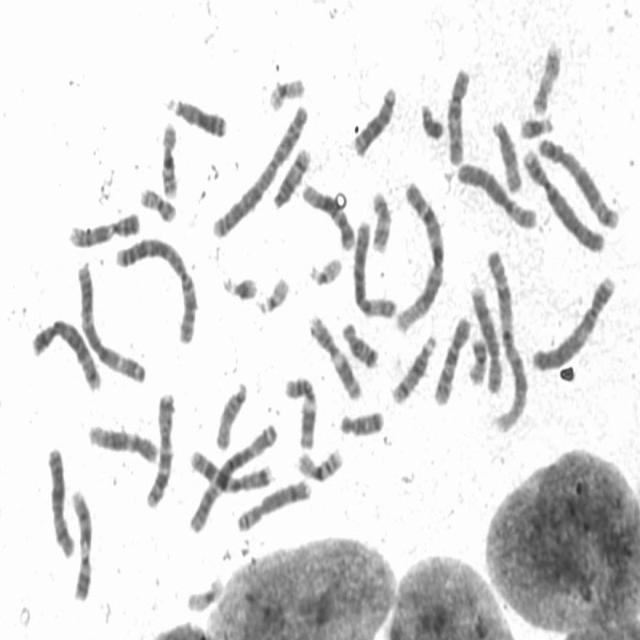A1: (483, 244, 531, 435), (392, 177, 447, 335)
A2: (209, 97, 311, 240), (111, 231, 200, 347)
A3: (186, 417, 279, 534), (72, 254, 148, 385)
B4: (520, 140, 608, 255), (528, 269, 618, 374)
B5: (534, 130, 622, 232), (28, 312, 104, 393)
C10: (431, 309, 474, 408), (443, 62, 472, 166)
C11: (304, 308, 364, 401), (280, 370, 318, 452)
C12: (299, 176, 358, 252), (85, 417, 161, 466)
C6: (454, 157, 539, 230), (349, 214, 399, 320)
C7: (187, 442, 274, 494), (142, 386, 178, 510)
C8: (232, 473, 313, 533), (467, 280, 505, 395)
C9: (65, 205, 144, 250), (67, 484, 95, 604)
D13: (349, 80, 399, 159), (163, 89, 229, 140)
D14: (388, 329, 438, 406), (269, 141, 313, 211)
D15: (212, 374, 250, 452), (489, 114, 524, 194)
E16: (156, 114, 182, 200), (293, 442, 346, 484)
E17: (528, 36, 564, 116), (368, 185, 393, 254)
E18: (339, 316, 381, 370), (336, 405, 385, 438)
F19: (182, 570, 225, 614), (266, 70, 308, 112)
F20: (136, 181, 178, 224), (465, 332, 489, 387)
G21: (219, 268, 260, 303), (516, 109, 556, 141)
G22: (253, 270, 291, 316), (305, 250, 344, 288)
X: (43, 440, 76, 559)
Y: (417, 97, 446, 141)
